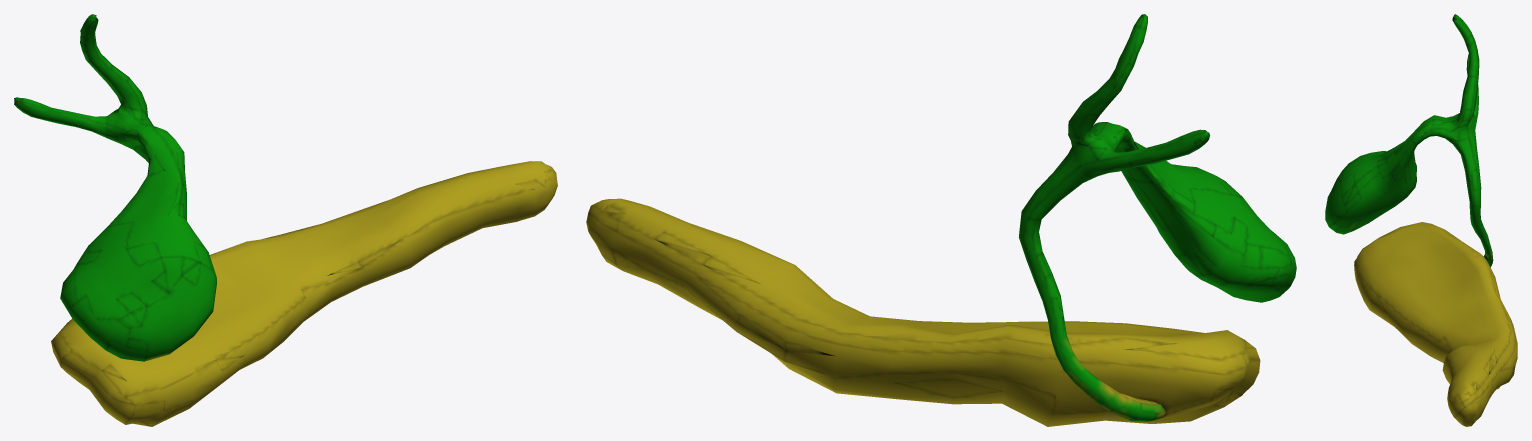
Rendered from pancreas.glb.
3 views of the same model, side by side, from view 1: azimuth 30°, elevation 25°; view 2: azimuth 150°, elevation 25°; view 3: azimuth 270°, elevation 25° (orthographic). The views are drawn at different scales.
Parts seen in each view (by area): view 1: model_7; view 2: model_7; view 3: model_7.
Part boxes in pixels (x1,y1,x2,y2): model_7: (14,14,557,426); model_7: (586,14,1296,426); model_7: (1325,14,1517,426).
Size of the model in its own units: 0.633 by 0.4192 by 0.2519.
Materials: 1 (1 with a texture image).
